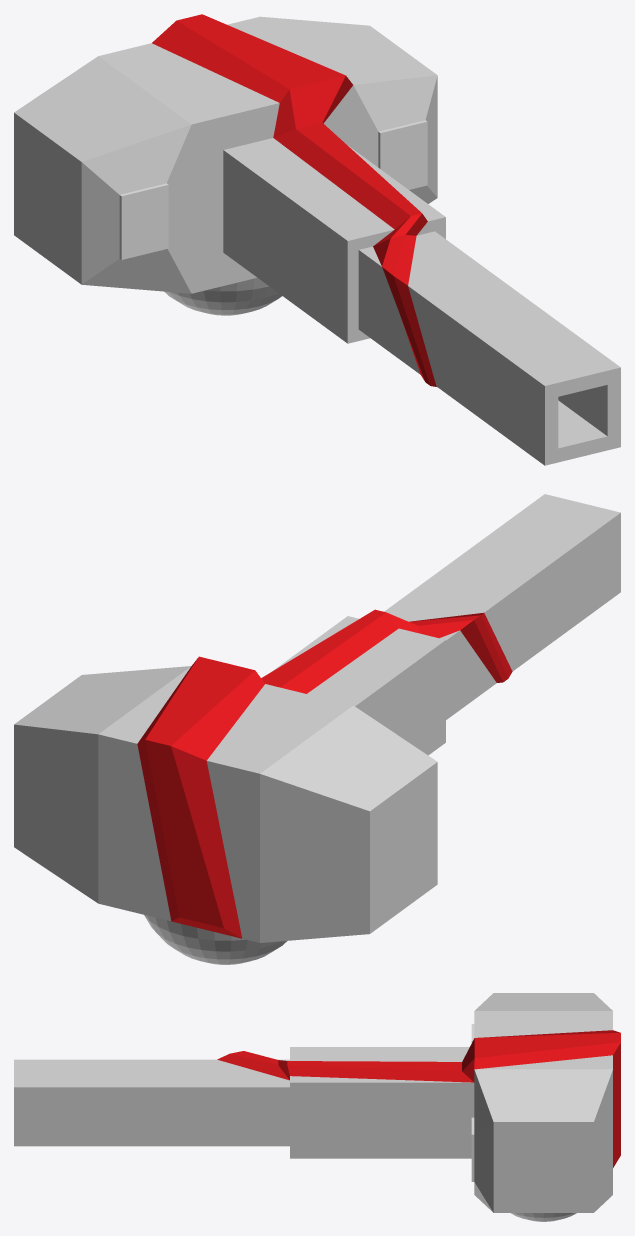
Rendered from Turret-Infected.fbx.
The picture shows the model from 3 angles, top to bottom: view 1: azimuth 30°, elevation 25°; view 2: azimuth 150°, elevation 25°; view 3: azimuth 270°, elevation 25°; orthographic projection. The views are drawn at different scales.
Visible parts, largest first — view 1: Cube; view 2: Cube; view 3: Cube.
Part boxes in pixels (x1,y1,x2,y2): Cube: (14,14,620,465); Cube: (14,494,620,964); Cube: (14,993,620,1221).
Size of the model in its own units: 440 by 293 by 876.
